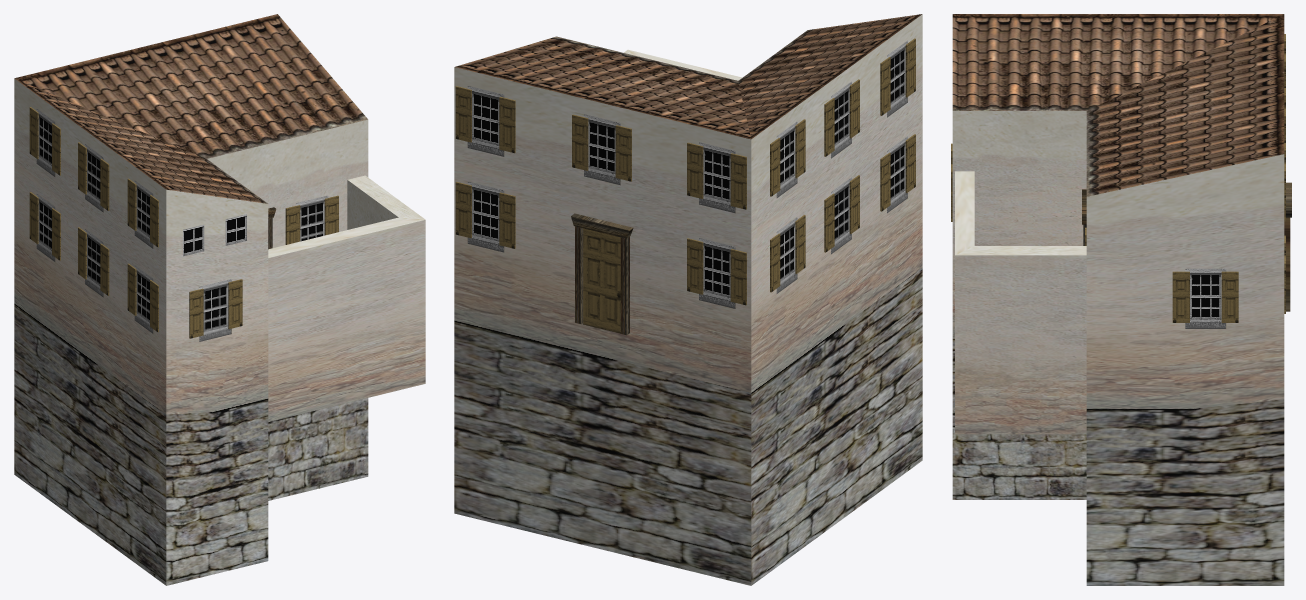
Rendered from iber_house_c.dae.
3 renders of one model, left to right at view 1: azimuth 30°, elevation 25°; view 2: azimuth 150°, elevation 25°; view 3: azimuth 270°, elevation 25°, orthographic. The views are drawn at different scales.
Visible parts, largest first — view 1: IberHouse3; view 2: IberHouse3; view 3: IberHouse3.
Part boxes in pixels (bbox=[...]): IberHouse3: bbox=[14, 14, 425, 585]; IberHouse3: bbox=[454, 14, 922, 585]; IberHouse3: bbox=[951, 14, 1291, 585].
Size of the model in its own units: 14.95 by 15.21 by 21.28.
